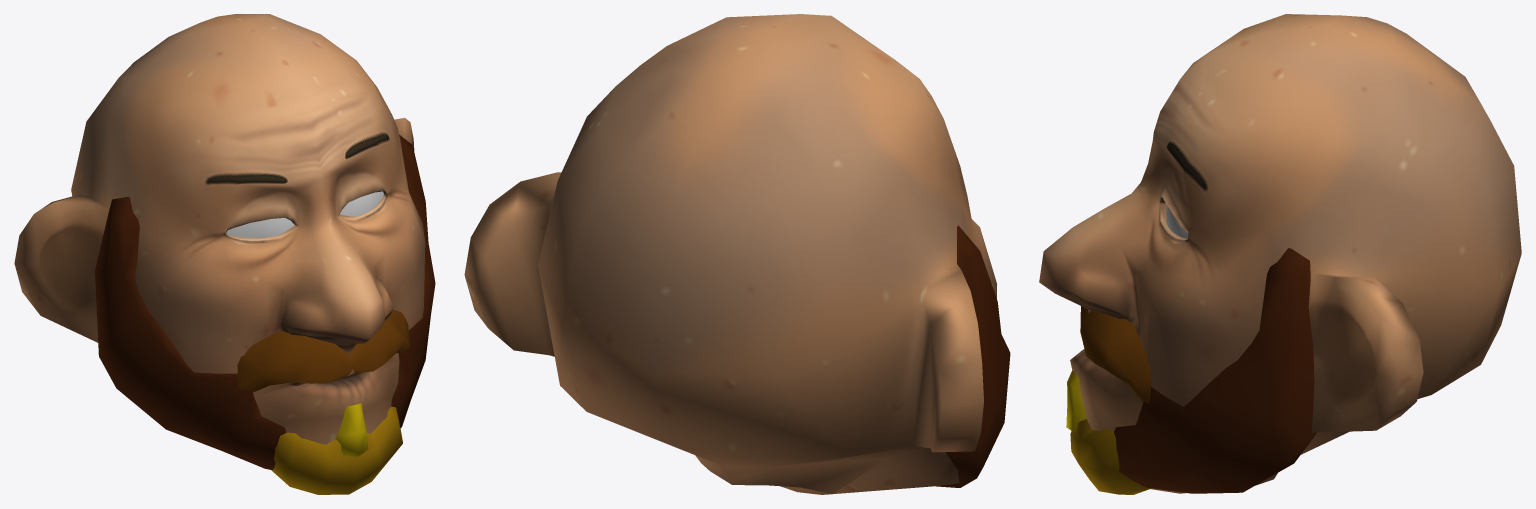
Rendered from E_sitpose05.fbx.
The picture shows the model from 3 angles, left to right: view 1: azimuth 30°, elevation 25°; view 2: azimuth 150°, elevation 25°; view 3: azimuth 270°, elevation 25°; orthographic projection. The views are drawn at different scales.
Visible parts, largest first — view 1: HEAD, BEARD; view 2: HEAD, BEARD; view 3: HEAD, BEARD.
Boxes of the visible parts, box(x1,y1,x2,y2) form: HEAD: box(14, 14, 425, 444); BEARD: box(95, 135, 435, 494); HEAD: box(464, 14, 997, 494); BEARD: box(936, 225, 1010, 487); HEAD: box(1039, 14, 1521, 493); BEARD: box(1066, 248, 1316, 494).
Size of the model in its own units: 27.45 by 26.22 by 24.9.
